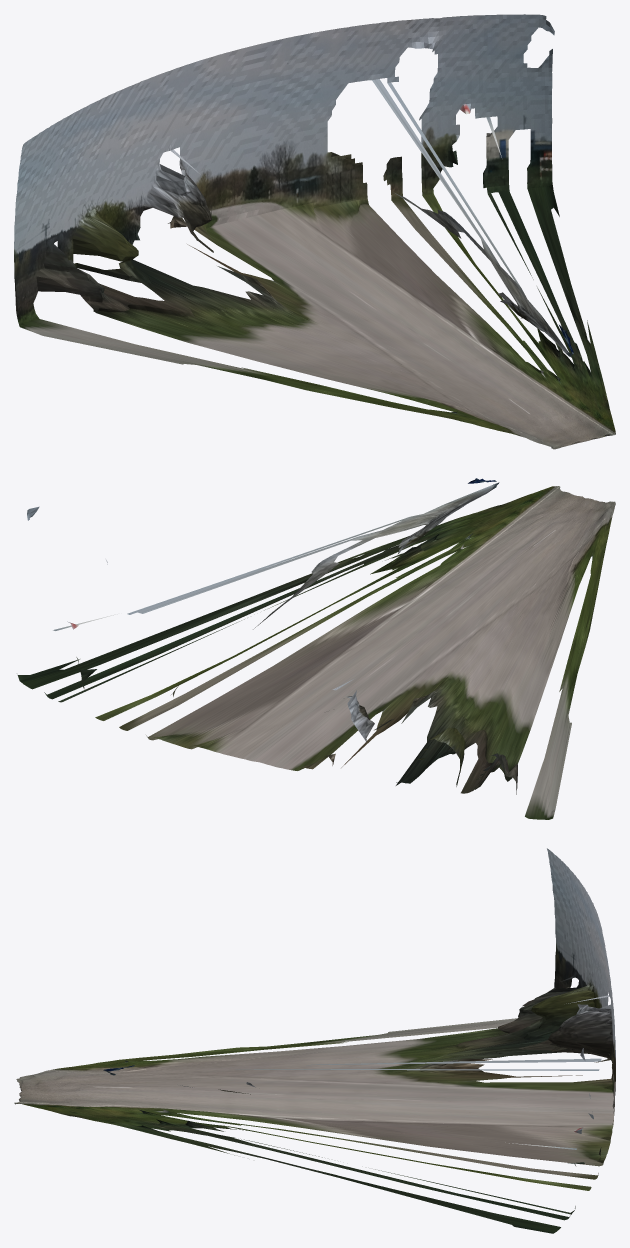
3 views of the same model, one above another, from view 1: azimuth 30°, elevation 25°; view 2: azimuth 150°, elevation 25°; view 3: azimuth 270°, elevation 25° (orthographic). The views are drawn at different scales.
Parts seen in each view (by area): view 1: defaultobject; view 2: defaultobject; view 3: defaultobject.
Boxes of the visible parts, <box> form: defaultobject: <box>14,14,615,449</box>; defaultobject: <box>17,478,615,819</box>; defaultobject: <box>14,848,615,1233</box>.
Size of the model in its own units: 41.16 by 14.42 by 44.77.
Materials: 1 (1 with a texture image).
